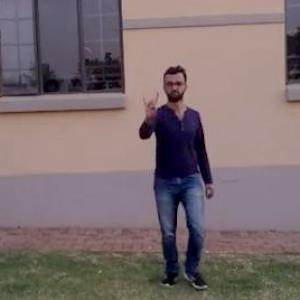takeoff-hand: (135, 86, 167, 124)
